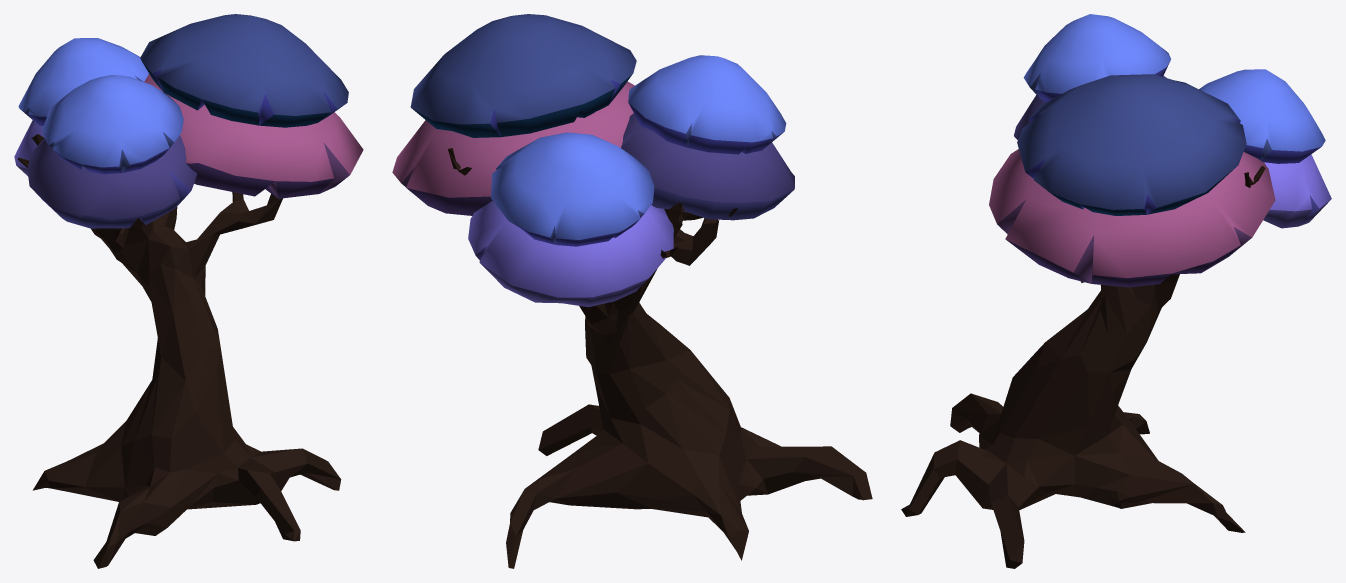
Rendered from Tree_02.glb.
The picture shows the model from 3 angles, left to right: view 1: azimuth 30°, elevation 25°; view 2: azimuth 150°, elevation 25°; view 3: azimuth 270°, elevation 25°; orthographic projection. The views are drawn at different scales.
Parts seen in each view (by area): view 1: Tree_02; view 2: Tree_02; view 3: Tree_02.
Part boxes in pixels (box(x1,y1,x2,y2)): Tree_02: box(14, 14, 363, 568); Tree_02: box(392, 14, 872, 568); Tree_02: box(901, 14, 1331, 568).
Size of what is drawn, in the model's own units: 4.14 by 5.32 by 4.41.
Materials: 1 (1 with a texture image).
